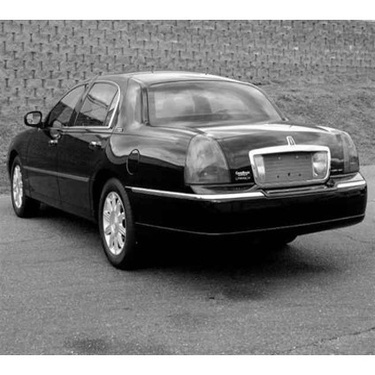car: (2, 60, 370, 276)
